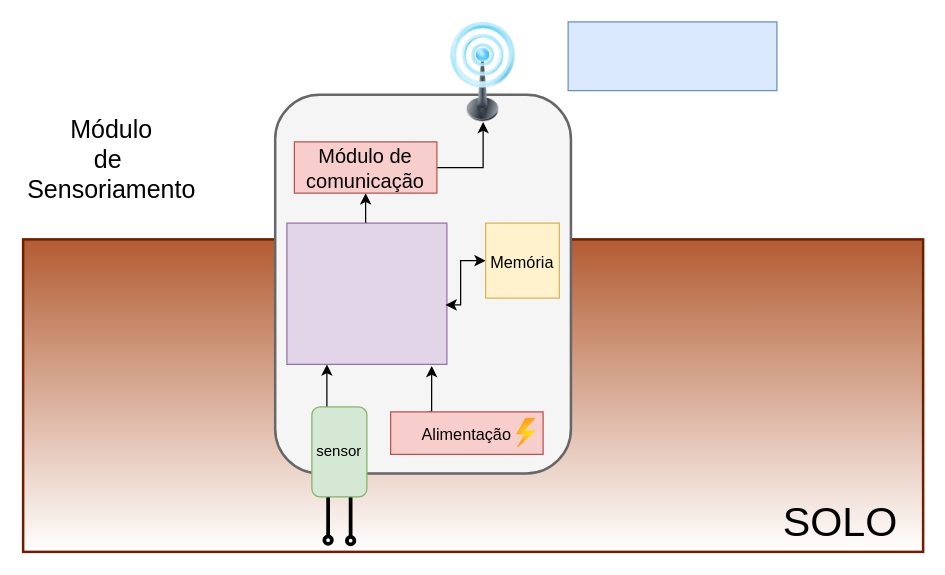
Some shapes in this 945 by 575 pixel diagram are drawn without their labels. Each missing label, with the centre of its shape:
"Conexão Local Bluetooth / RF ou diretamente para Nuvem" belongs at point (672, 56).
"Microcontrolador" belongs at point (366, 293).
